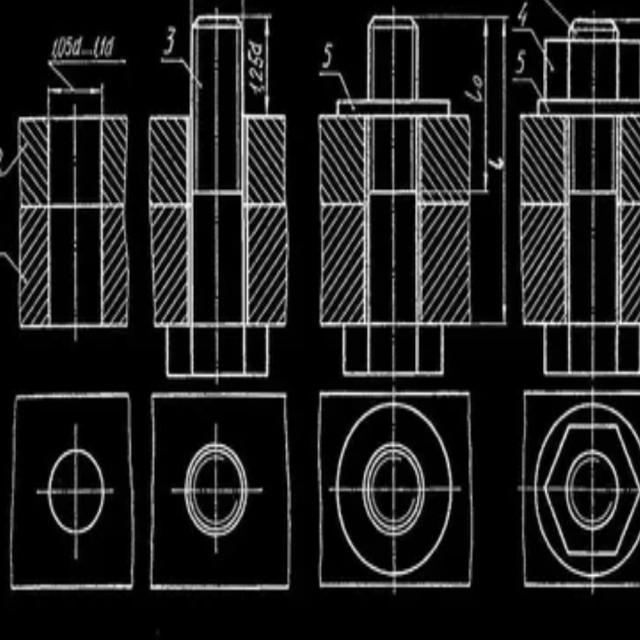marking_line: (473, 13, 509, 327), (48, 57, 124, 115), (471, 15, 490, 195), (247, 12, 273, 113)
numeric: (161, 22, 176, 57), (248, 78, 268, 95), (323, 39, 333, 69), (515, 48, 526, 75), (517, 1, 528, 27), (249, 67, 264, 82), (248, 54, 265, 67), (57, 35, 66, 59), (98, 35, 107, 57), (64, 36, 73, 55), (51, 38, 57, 56)
